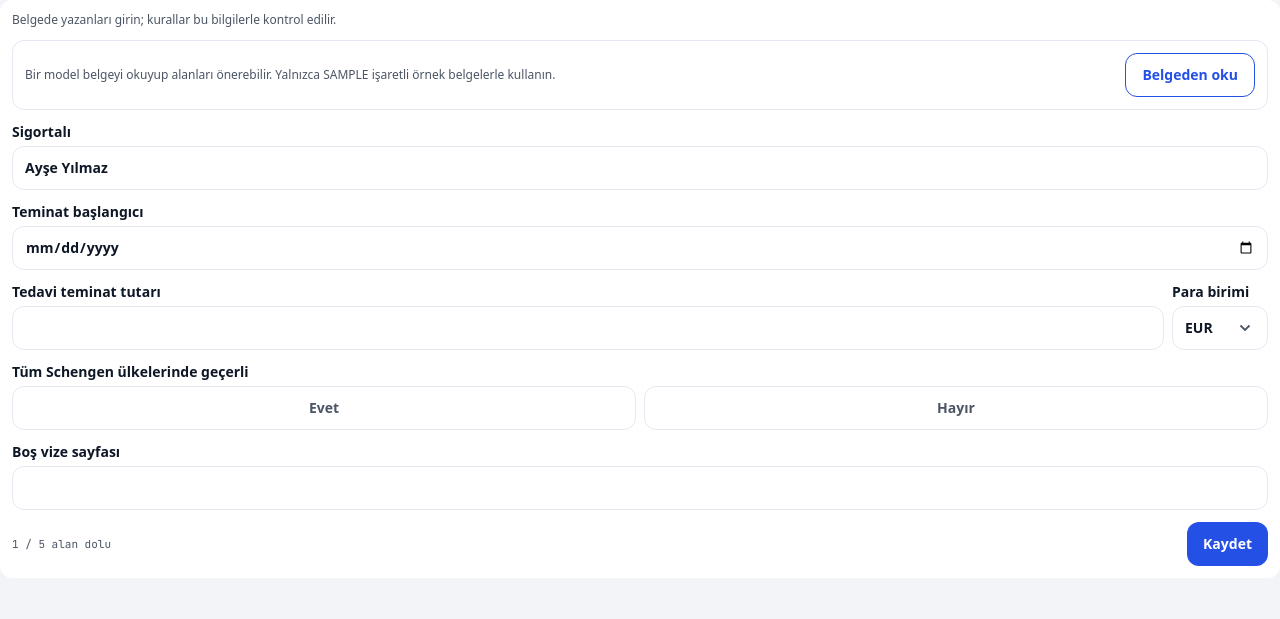
Test: reading the document with a model › fills the draft with the proposed values, keeps the rest and saves nothing
Click the button "Belgeden oku".
click(1190, 75)  # box [1125,53,1255,97]
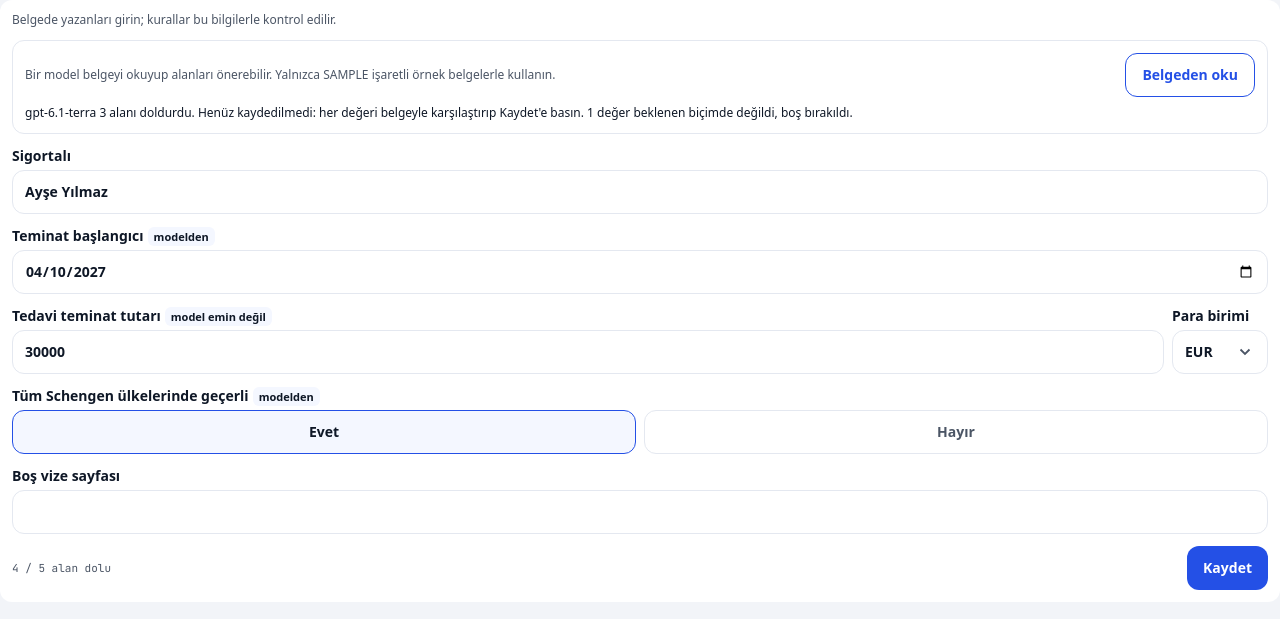
Expected: the message shows "gpt-6.1-terra 3 alanı doldurdu", [25,104,584,121]
Expected: the message shows "1 değer beklenen biçimde değildi", [584,104,853,121]
Expected: the date field labelled "Teminat başlangıcı" holds "2027-04-10", [12,250,1268,294]
